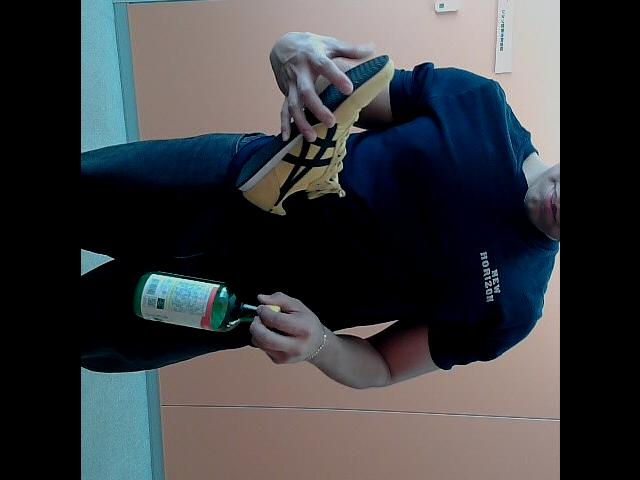Lemon_sapporo: (128, 270, 284, 334)
Shoes: (232, 56, 396, 216)
